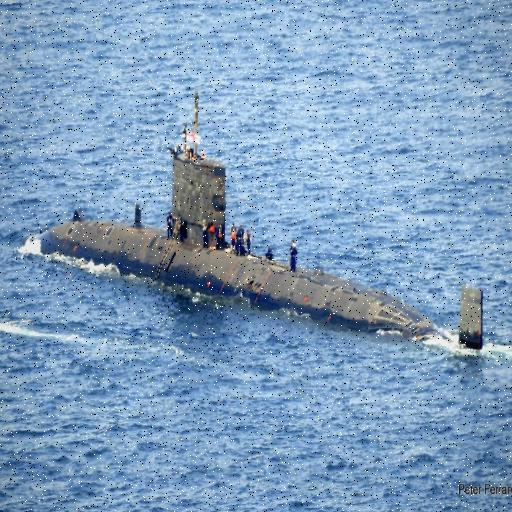submarine: (31, 154, 486, 353)
